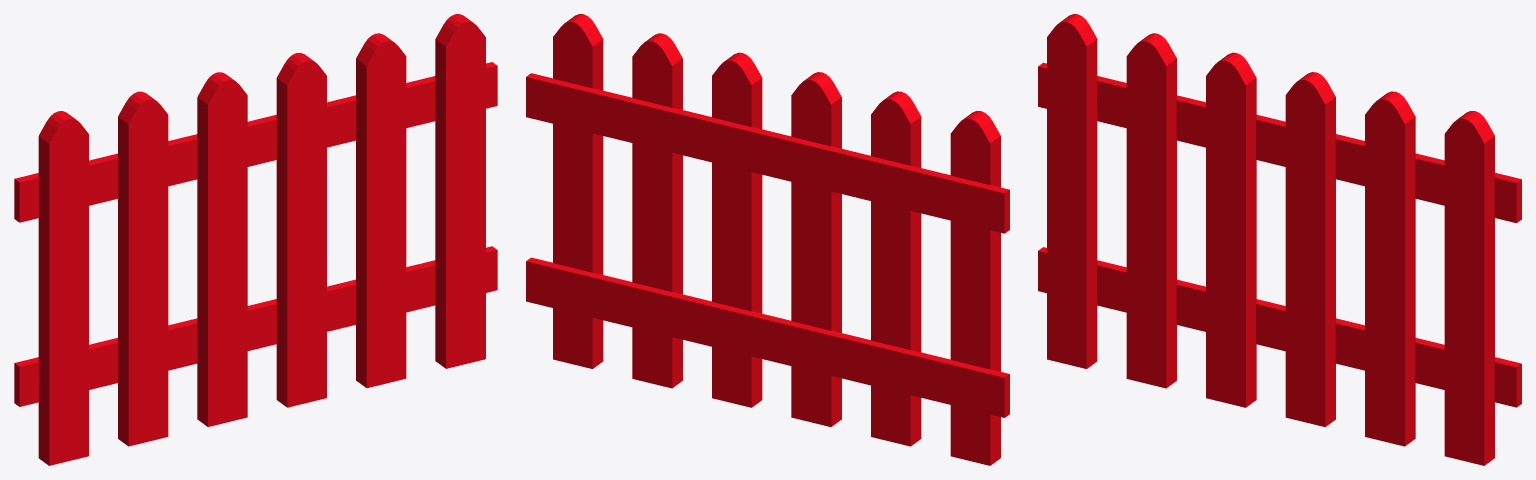
The model's file is Fence.gltf.
3 views of the same model, side by side, from view 1: azimuth 30°, elevation 25°; view 2: azimuth 150°, elevation 25°; view 3: azimuth 330°, elevation 25° (orthographic).
Parts seen in each view (by area): view 1: Cube.002; view 2: Cube.002; view 3: Cube.002.
Part boxes in pixels (bbox=[...]): Cube.002: bbox=[14, 14, 497, 465]; Cube.002: bbox=[526, 14, 1009, 465]; Cube.002: bbox=[1038, 14, 1521, 465].
Bounding box in the file's own units: 1.77 × 1.21 × 0.1005.
